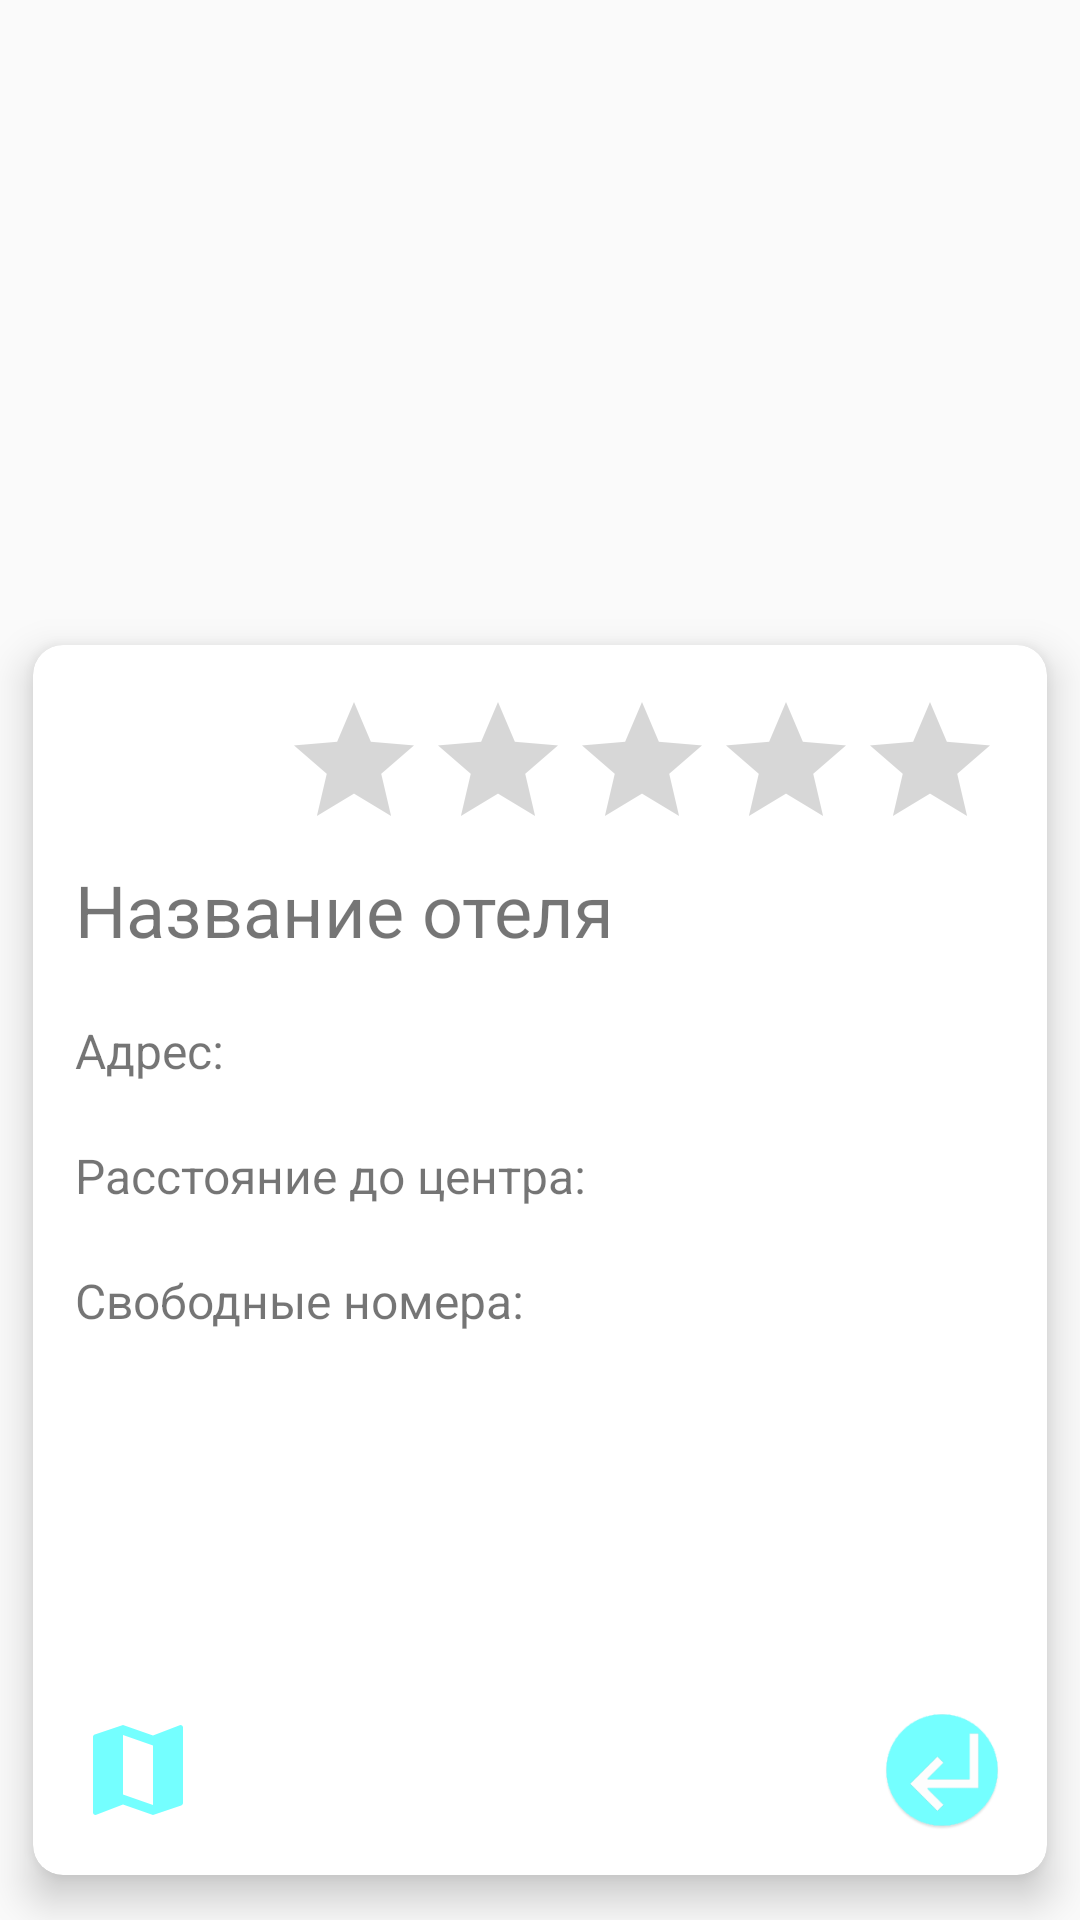

Named icons in this screenshot (1080 x 1920) and their centers, point (x, y):
pic map: point (138, 1770)
pic revert: point (942, 1770)
